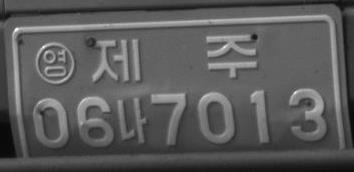0: (197, 90, 236, 144), (31, 97, 70, 150)
1: (244, 89, 282, 142)
3: (289, 86, 328, 143)
6: (75, 95, 115, 148)
7: (149, 91, 187, 147)
나: (116, 96, 149, 144)
영: (35, 41, 76, 84)
제주_D: (89, 33, 258, 84)
